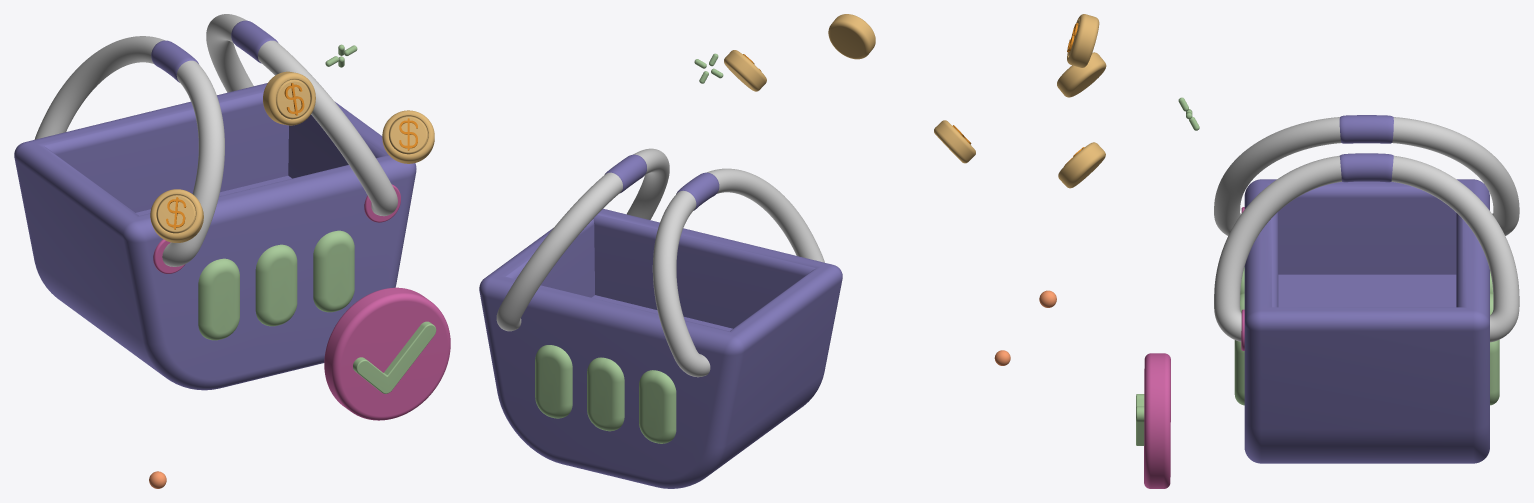
File: checkout-3d-animated-icon-1055333913786.glb
3 renders of one model, left to right at view 1: azimuth 30°, elevation 25°; view 2: azimuth 150°, elevation 25°; view 3: azimuth 270°, elevation 25°, orthographic. The views are drawn at different scales.
Parts seen in each view (by area): view 1: Cube, Cylinder.006, Cube.001, Plane.002, Plane, Cylinder.001, Cylinder.009, Cylinder.002, Curve.003, Plane.001, Plane.003; view 2: Cube, Plane.002, Cube.001, Plane, Cylinder.002, Cylinder.009, Cylinder.001, Plane.001, Plane.003; view 3: Cube, Plane, Plane.002, Cylinder.006, Cube.001, Plane.003, Plane.001, Cylinder.009, Cylinder.001, Cylinder.002.
Part boxes in pixels (x1,y1,x2,y2): Cube: (14, 83, 416, 390); Cylinder.006: (324, 287, 450, 420); Cube.001: (198, 230, 354, 340); Plane.002: (34, 36, 224, 266); Plane: (206, 14, 397, 216); Cylinder.001: (150, 189, 203, 242); Cylinder.009: (382, 110, 434, 163); Cylinder.002: (263, 71, 315, 125); Curve.003: (353, 321, 436, 393); Plane.001: (231, 20, 278, 63); Plane.003: (151, 40, 198, 82); Cube: (479, 208, 842, 488); Plane.002: (652, 168, 824, 377); Cube.001: (535, 345, 676, 443); Plane: (496, 148, 669, 331); Cylinder.002: (828, 14, 875, 59); Cylinder.009: (724, 50, 766, 91); Cylinder.001: (934, 120, 975, 163); Plane.001: (604, 154, 646, 193); Plane.003: (676, 172, 719, 210); Cube: (1244, 179, 1489, 463); Plane: (1214, 155, 1519, 342); Plane.002: (1214, 117, 1519, 235); Cylinder.006: (1144, 353, 1170, 488); Cube.001: (1234, 267, 1499, 405); Plane.003: (1339, 115, 1393, 143); Plane.001: (1339, 153, 1393, 182); Cylinder.009: (1058, 142, 1105, 188); Cylinder.001: (1057, 52, 1106, 97); Cylinder.002: (1067, 14, 1099, 67).
Size of the model in its own units: 1.51 by 1.56 by 1.69.
